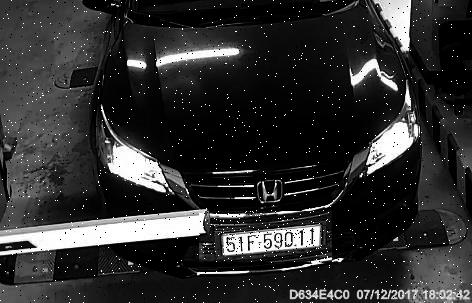License-plate: (201, 213, 335, 265)
